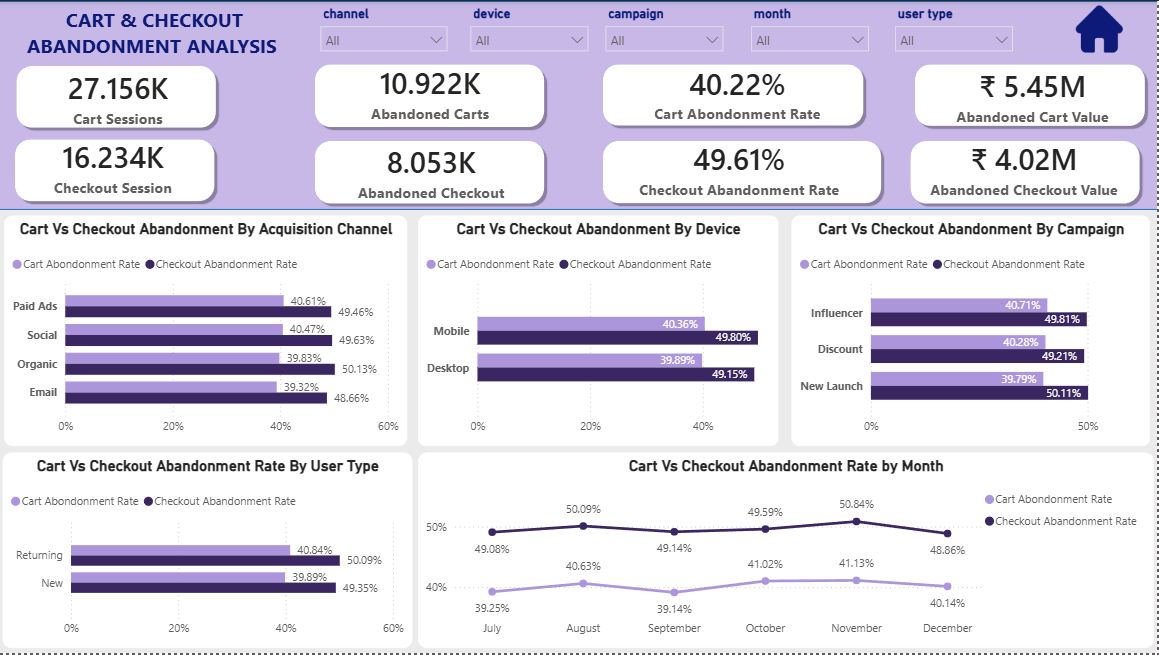

Layout of this report page (visuals, bound fields, positions):
{"tool":"powerbi","page":{"name":"Abandonment Analysis","canvas":[1280,720],"ordinal":2},"visuals":[{"type":"shape","box":[0,0,1281.5,230.6],"z":0},{"type":"shape","box":[662.5,64,298.4,78.3],"z":0,"group":"g2"},{"type":"shape","box":[1006.9,64.3,264.7,78.7],"z":0,"group":"g3"},{"type":"shape","box":[345.2,64.4,263.9,80],"z":0,"group":"g4"},{"type":"shape","box":[14.7,65.5,231.1,79],"z":0,"group":"g1"},{"type":"shape","box":[13.2,147.6,231.1,79],"z":0,"group":"g5"},{"type":"shape","box":[663.3,148.9,318,79.5],"z":0,"group":"g7"},{"type":"shape","box":[1001.4,150.1,263.9,80],"z":0,"group":"g8"},{"type":"shape","box":[345.1,150.3,263.9,80],"z":0,"group":"g6"},{"type":"textbox","box":[0,0,345.9,67.4],"z":1000},{"type":"cardVisual","fields":{"Data":["_measures.Cart Abondonment Rate"]},"box":[667.2,44,298.4,114.6],"z":1000,"group":"g2"},{"type":"cardVisual","fields":{"Data":["_measures.Abandoned Cart Session"]},"box":[379.1,50,199.1,103.1],"z":1000,"group":"g4"},{"type":"cardVisual","fields":{"Data":["_measures.Potential Abandoned cart Order Value"]},"box":[1026.8,52.8,231.6,103.7],"z":1000,"group":"g3"},{"type":"cardVisual","fields":{"Data":["_measures.Cart Sessions"]},"box":[32,53.9,202.2,104],"z":1000,"group":"g1"},{"type":"cardVisual","fields":{"Data":["_measures.Checkout Abandonment Rate"]},"box":[673.6,130.5,292.6,109],"z":1000,"group":"g7"},{"type":"cardVisual","fields":{"Data":["_measures.Total Checkout Session"]},"box":[22.3,131.1,211,104.4],"z":1000,"group":"g5"},{"type":"cardVisual","fields":{"Data":["_measures.Potential Abandoned Checkout Order Value"]},"box":[990.6,131.5,285.3,109],"z":1000,"group":"g8"},{"type":"cardVisual","title":"ABANDONED CHECKOUT","fields":{"Data":["_measures.Checkout Abondoned Session"]},"box":[359.4,135,238.1,109],"z":1000,"group":"g6"},{"type":"slicer","title":"Channel slicer","fields":{"Values":["final_d2c_marketing_funnel_data.channel"]},"box":[345.9,0,160.1,57.2],"z":5000},{"type":"slicer","title":"device slicer","fields":{"Values":["final_d2c_marketing_funnel_data.device"]},"box":[511.3,0,150.3,57.2],"z":6000},{"type":"group","id":"g1","title":"Total Sessions","box":[14.7,53.9,231.9,102.9],"z":8000},{"type":"group","id":"g2","title":"Purchase Completed","box":[662.5,44,303.4,114.3],"z":10000},{"type":"group","id":"g3","title":"Revenue","box":[1006.9,52.8,263.8,102.6],"z":11000},{"type":"group","id":"g4","title":"Convertion Rate","box":[345.2,50,263.3,102.3],"z":12000},{"type":"clusteredBarChart","title":"Cart Vs Checkout Abandonment By Device","fields":{"Category":["final_d2c_marketing_funnel_data.device"],"Y":["_measures.Cart Abondonment Rate","_measures.Checkout Abandonment Rate"]},"box":[463.4,236.3,398,254.4],"z":19000},{"type":"slicer","title":"device slicer","fields":{"Values":["final_d2c_marketing_funnel_data.campaign_type"]},"box":[661.4,0,150.3,57.2],"z":21000},{"type":"slicer","title":"device slicer","fields":{"Values":["final_d2c_marketing_funnel_data.month_name"]},"box":[822.4,0,150.1,67.4],"z":22000},{"type":"slicer","title":"device slicer","fields":{"Values":["final_d2c_marketing_funnel_data.user_type"]},"box":[981.2,0,150.1,67.4],"z":23000},{"type":"group","id":"g5","title":"Revenue Per Sessions","box":[13.2,131.1,231.1,104.4],"z":24000},{"type":"group","id":"g6","title":"Top Channel","box":[345.1,135,263.9,109],"z":25000},{"type":"image","box":[1156,5.8,120.1,52],"z":26000},{"type":"group","id":"g7","title":"Top Campaign","box":[663.3,130.5,318,109],"z":27000},{"type":"group","id":"g8","title":"Top Campaign","box":[990.6,131.5,285.3,109],"z":28000},{"type":"clusteredBarChart","title":"Cart Vs Checkout Abandonment By Acquisition Channel","fields":{"Category":["final_d2c_marketing_funnel_data.channel"],"Y":["_measures.Cart Abondonment Rate","_measures.Checkout Abandonment Rate"]},"box":[7.3,236.3,445.2,254.4],"z":29000},{"type":"clusteredBarChart","title":"Cart Vs Checkout Abandonment By Campaign","fields":{"Category":["final_d2c_marketing_funnel_data.campaign_type"],"Y":["_measures.Cart Abondonment Rate","_measures.Checkout Abandonment Rate"]},"box":[875.9,236.3,396.2,254.4],"z":30000},{"type":"clusteredBarChart","title":"Cart Vs Checkout Abandonment Rate By User Type","fields":{"Category":["final_d2c_marketing_funnel_data.user_type"],"Y":["_measures.Cart Abondonment Rate","_measures.Checkout Abandonment Rate"]},"box":[5.5,498,452.5,216.3],"z":31001},{"type":"lineChart","title":"Cart Vs Checkout Abandonment Rate by Month","fields":{"Category":["final_d2c_marketing_funnel_data.month_name"],"Y":["_measures.Cart Abondonment Rate","_measures.Checkout Abandonment Rate"]},"box":[463.4,497.9,812.3,216.3],"z":31002}]}

Visuals, with their boxes in screenshot pixels (x1, y1, x2, y2), scaled from the page's 1280x720 canvas onto the 1159x655 screenshot:
shape: left=0, top=0, right=1158, bottom=210
shape: left=600, top=58, right=870, bottom=129
shape: left=912, top=58, right=1151, bottom=130
shape: left=313, top=59, right=552, bottom=131
shape: left=13, top=60, right=223, bottom=131
shape: left=12, top=134, right=221, bottom=206
shape: left=601, top=135, right=889, bottom=208
shape: left=907, top=137, right=1146, bottom=209
shape: left=312, top=137, right=551, bottom=210
textbox: left=0, top=0, right=313, bottom=61
cardVisual - _measures.Cart Abondonment Rate: left=604, top=40, right=874, bottom=144
cardVisual - _measures.Abandoned Cart Session: left=343, top=45, right=524, bottom=139
cardVisual - _measures.Potential Abandoned cart Order Value: left=930, top=48, right=1139, bottom=142
cardVisual - _measures.Cart Sessions: left=29, top=49, right=212, bottom=144
cardVisual - _measures.Checkout Abandonment Rate: left=610, top=119, right=875, bottom=218
cardVisual - _measures.Total Checkout Session: left=20, top=119, right=211, bottom=214
cardVisual - _measures.Potential Abandoned Checkout Order Value: left=897, top=120, right=1155, bottom=219
"ABANDONED CHECKOUT" cardVisual: left=325, top=123, right=541, bottom=222
"Channel slicer" slicer: left=313, top=0, right=458, bottom=52
"device slicer" slicer: left=463, top=0, right=599, bottom=52
"Total Sessions" group: left=13, top=49, right=223, bottom=143
"Purchase Completed" group: left=600, top=40, right=875, bottom=144
"Revenue" group: left=912, top=48, right=1151, bottom=141
"Convertion Rate" group: left=313, top=45, right=551, bottom=139
"Cart Vs Checkout Abandonment By Device" clusteredBarChart: left=420, top=215, right=780, bottom=446
"device slicer" slicer: left=599, top=0, right=735, bottom=52
"device slicer" slicer: left=745, top=0, right=881, bottom=61
"device slicer" slicer: left=888, top=0, right=1024, bottom=61
"Revenue Per Sessions" group: left=12, top=119, right=221, bottom=214
"Top Channel" group: left=312, top=123, right=551, bottom=222
image: left=1047, top=5, right=1155, bottom=53
"Top Campaign" group: left=601, top=119, right=889, bottom=218
"Top Campaign" group: left=897, top=120, right=1155, bottom=219
"Cart Vs Checkout Abandonment By Acquisition Channel" clusteredBarChart: left=7, top=215, right=410, bottom=446
"Cart Vs Checkout Abandonment By Campaign" clusteredBarChart: left=793, top=215, right=1152, bottom=446
"Cart Vs Checkout Abandonment Rate By User Type" clusteredBarChart: left=5, top=453, right=415, bottom=650
"Cart Vs Checkout Abandonment Rate by Month" lineChart: left=420, top=453, right=1155, bottom=650
